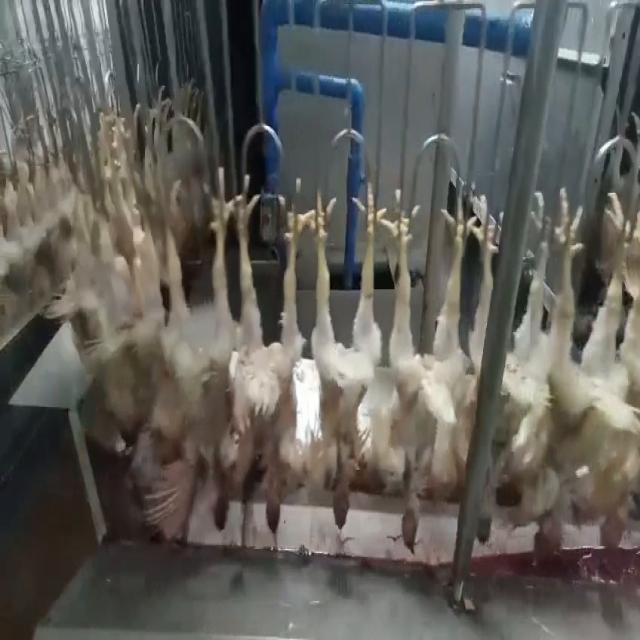chicken: (376, 186, 488, 561), (134, 168, 224, 548), (224, 174, 311, 551), (301, 176, 380, 535), (513, 184, 581, 566), (586, 174, 640, 551)
